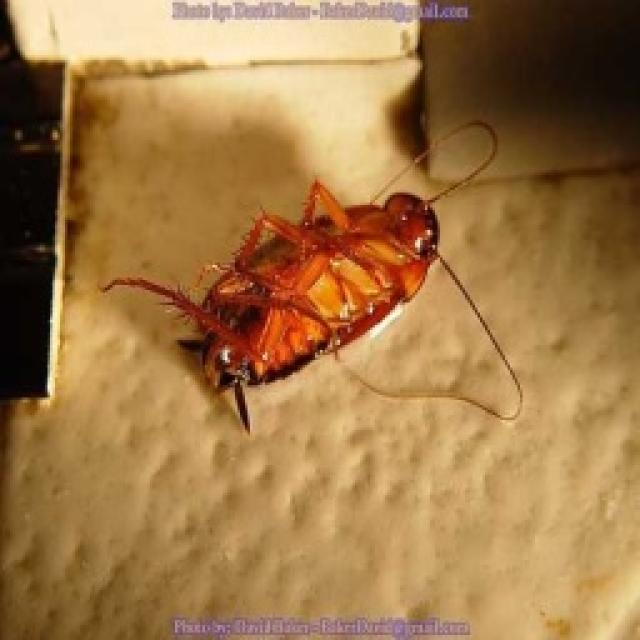cockroach: (97, 115, 528, 438)
